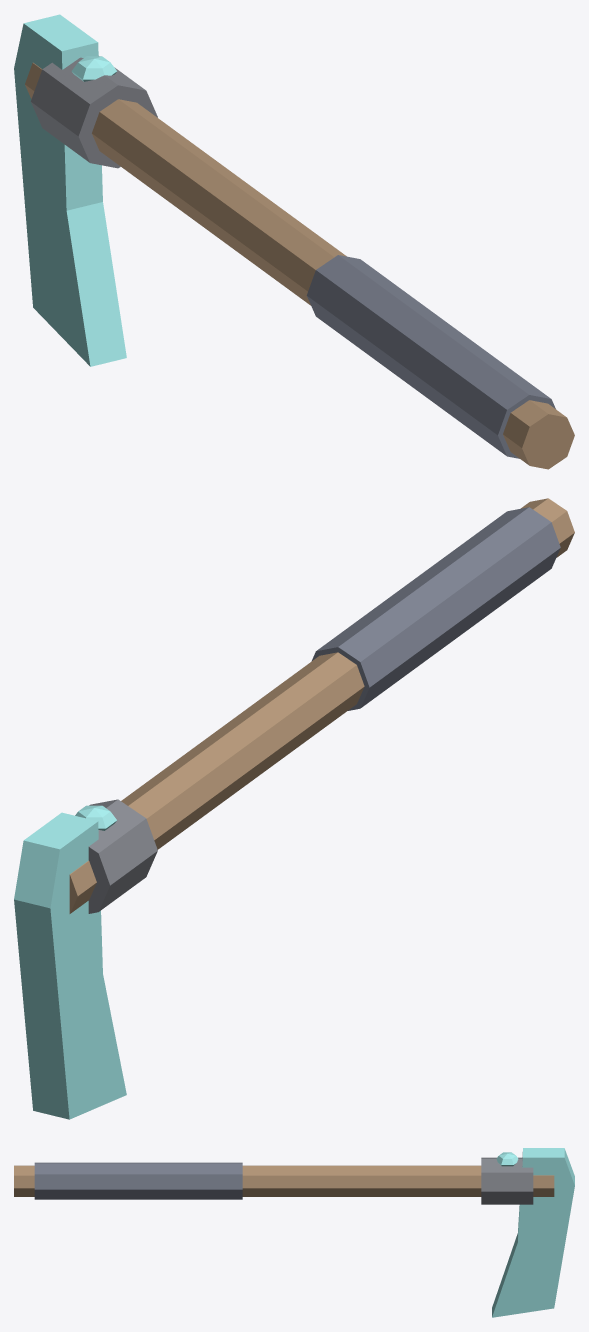
The model's file is diamond_hoe_held.gltf.
3 views of the same model, one above another, from view 1: azimuth 30°, elevation 25°; view 2: azimuth 150°, elevation 25°; view 3: azimuth 270°, elevation 25° (orthographic). The views are drawn at different scales.
Parts seen in each view (by area): view 1: furnace_diamond_hoe_held; view 2: furnace_diamond_hoe_held; view 3: furnace_diamond_hoe_held.
Part boxes in pixels (x1,y1,x2,y2): furnace_diamond_hoe_held: (14,14,574,469); furnace_diamond_hoe_held: (14,498,574,1119); furnace_diamond_hoe_held: (14,1148,574,1317).
Size of the model in its own units: 0.048 by 0.17 by 0.54.
